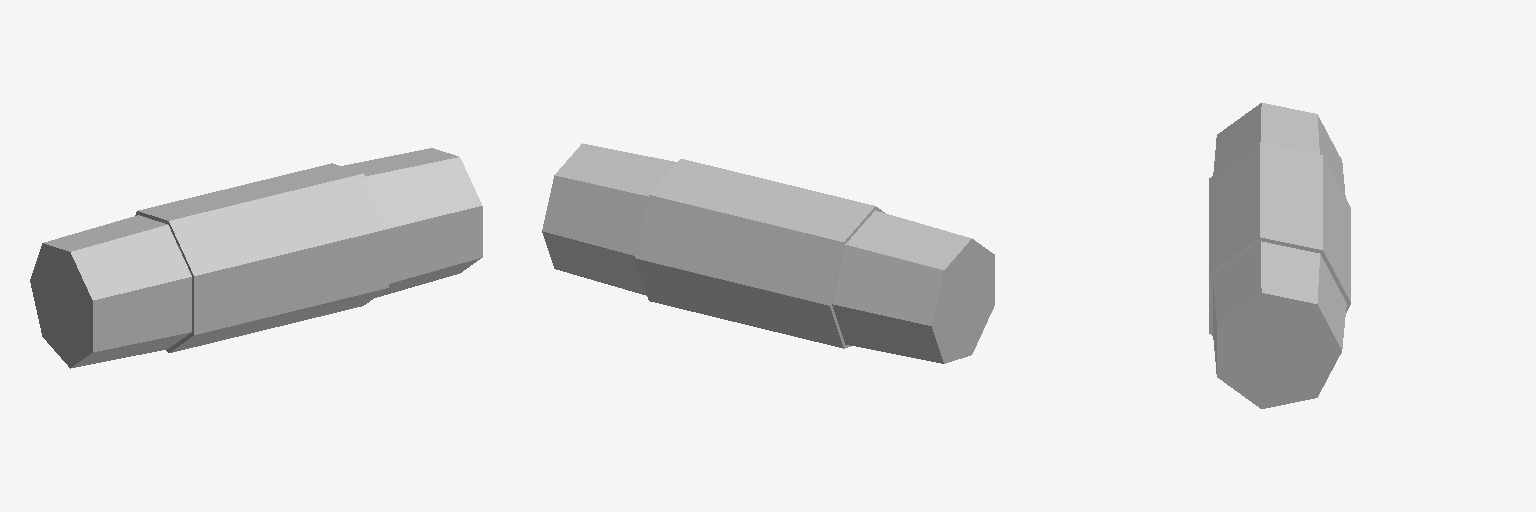
File: snake.obj
3 renders of one model, left to right at view 1: azimuth 30°, elevation 25°; view 2: azimuth 150°, elevation 25°; view 3: azimuth 270°, elevation 25°, orthographic.
Visible parts, largest first — view 1: mid, neck1, tail1, neck2; view 2: mid, neck1, tail1, neck2; view 3: mid, tail1, neck1, tail3, tail2.
Boxes of the visible parts, <box> form: mid: <box>135,163,388,352</box>; neck1: <box>30,215,191,368</box>; tail1: <box>342,148,482,297</box>; neck2: <box>42,266,81,344</box>; mid: <box>635,159,884,348</box>; neck1: <box>832,210,994,363</box>; tail1: <box>542,143,676,295</box>; neck2: <box>944,262,983,339</box>; mid: <box>1209,142,1350,335</box>; tail1: <box>1213,190,1346,408</box>; neck1: <box>1213,103,1345,197</box>; tail3: <box>1230,306,1326,395</box>; tail2: <box>1224,300,1333,401</box>.
Size of the model in its own units: 1.5 by 0.4875 by 0.4752.